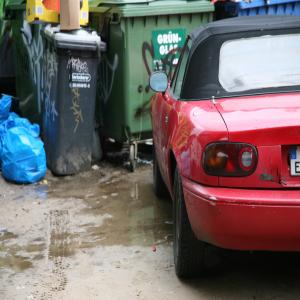Vehicle-registration-plate: (290, 146, 300, 177)
